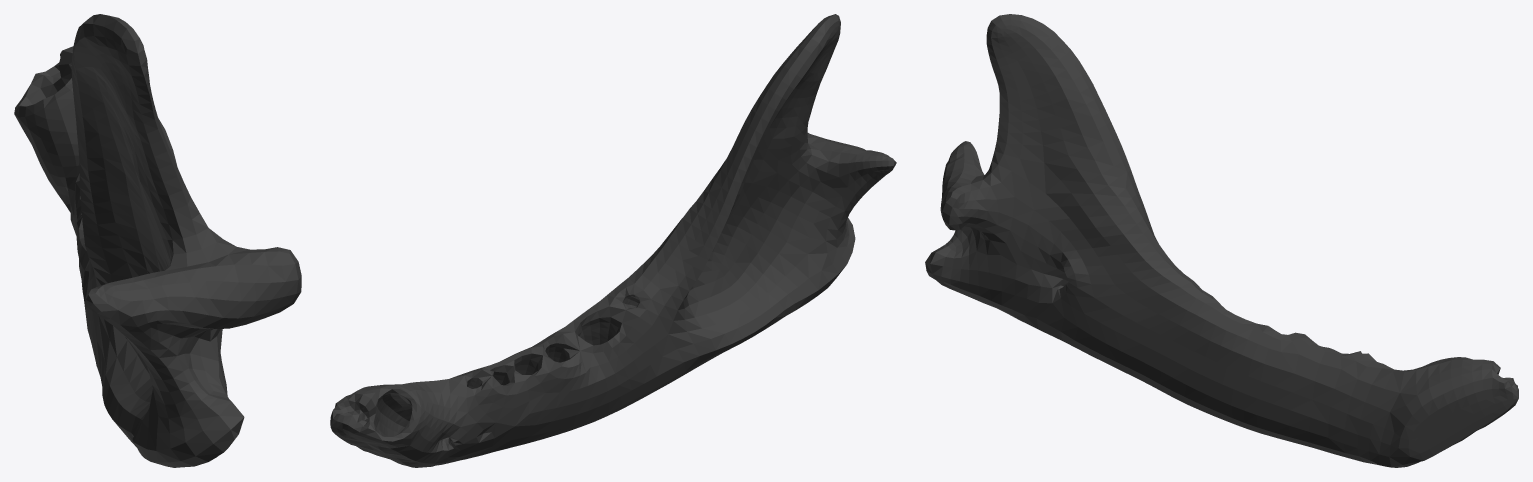
Rendered from Mandible.glb.
The picture shows the model from 3 angles, left to right: view 1: azimuth 30°, elevation 25°; view 2: azimuth 150°, elevation 25°; view 3: azimuth 270°, elevation 25°; orthographic projection. The views are drawn at different scales.
Visible parts, largest first — view 1: Mandible; view 2: Mandible; view 3: Mandible.
Part boxes in pixels (x1,y1,x2,y2): Mandible: (14,14,301,467); Mandible: (330,14,896,467); Mandible: (925,14,1518,467).
Bounding box in the file's own units: 0.3018 × 0.3633 × 0.5577.
Materials: 1 (1 with a texture image).
